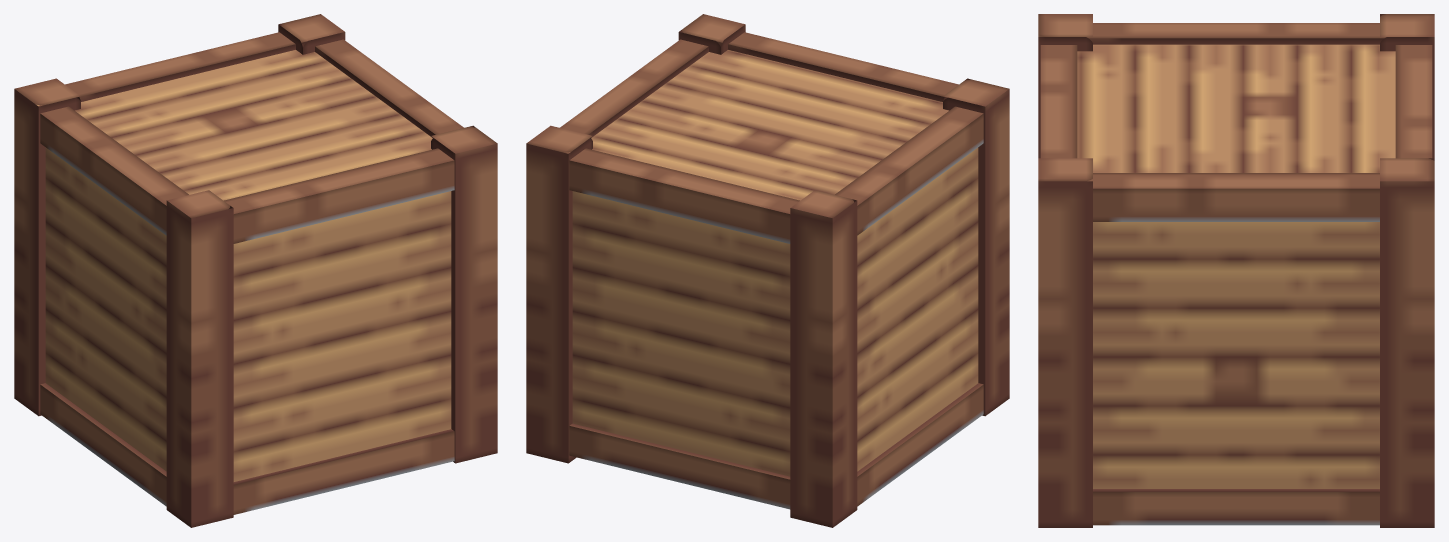
File: crateV2.obj
The picture shows the model from 3 angles, left to right: view 1: azimuth 30°, elevation 25°; view 2: azimuth 150°, elevation 25°; view 3: azimuth 270°, elevation 25°; orthographic projection. The views are drawn at different scales.
Parts seen in each view (by area): view 1: cube; view 2: cube; view 3: cube.
Part boxes in pixels (x1,y1,x2,y2): cube: [14, 14, 497, 527]; cube: [526, 14, 1009, 527]; cube: [1038, 14, 1434, 527].
Bounding box in the file's own units: 1.81 × 1.75 × 1.81.
